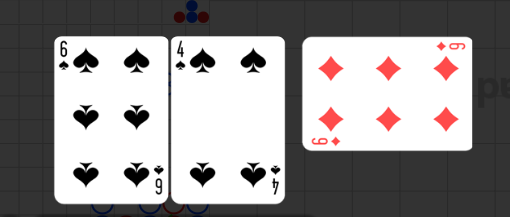4S: (269, 163, 283, 196)
6D: (435, 41, 467, 52)
6S: (58, 40, 71, 73)
